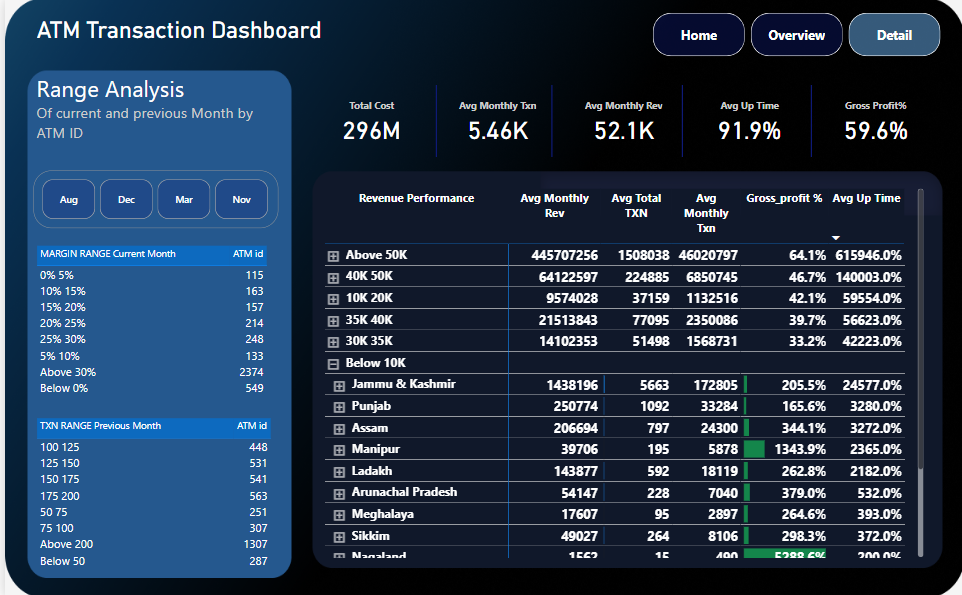

The page's visual inventory and layout, read from the dashboard file:
{"tool":"powerbi","page":{"name":"Detail","canvas":[1600,1000],"ordinal":2},"visuals":[{"type":"pageNavigator","box":[1080,24,480,72],"z":0},{"type":"textbox","box":[48,24,504,72],"z":1},{"type":"advancedSlicerVisual","fields":{"Values":["Dataset.Short_month"]},"box":[48,288,408,96],"z":2},{"type":"tableEx","fields":{"Values":["Dataset.MARGIN RANGE Current Month","Dataset.ATM id"]},"box":[48,408,408,264],"z":3},{"type":"tableEx","fields":{"Values":["Dataset.TXN RANGE Previous Month","Dataset.ATM id"]},"box":[48,696,408,264],"z":4},{"type":"textbox","box":[48,120,408,168],"z":5},{"type":"cardVisual","fields":{"Data":["Sum(Dataset. Total Cost  )","Avg(Dataset.Monthly Txn)","Avg(Dataset.Monthly Rev)","Avg(Dataset.Up Time)","Dataset.Gross_profit %"]},"box":[504,144,1056,120],"z":6},{"type":"shape","box":[696,144,48,120],"z":7},{"type":"shape","box":[888,144,48,120],"z":8},{"type":"shape","box":[1104,144,48,120],"z":9},{"type":"shape","box":[1320,144,48,120],"z":10},{"type":"pivotTable","fields":{"Rows":["Dataset.Revenue Performance","Dataset.STATE","Dataset.ATM id"],"Values":["Sum(Dataset.Monthly Rev)","Sum(Dataset.AVG Total TXN)","Sum(Dataset.Monthly Txn)","Dataset.Gross_profit %","Sum(Dataset.Up Time)"]},"box":[528,312,1008,624],"z":11}]}

Visuals, with their boxes in screenshot pixels (x1, y1, x2, y2), scaled from the page's 1600x1000 canvas onto the 962x595 screenshot:
pageNavigator: left=649, top=14, right=938, bottom=57
textbox: left=29, top=14, right=332, bottom=57
advancedSlicerVisual - Dataset.Short_month: left=29, top=171, right=274, bottom=228
tableEx - Dataset.MARGIN RANGE Current Month x Dataset.ATM id: left=29, top=243, right=274, bottom=400
tableEx - Dataset.TXN RANGE Previous Month x Dataset.ATM id: left=29, top=414, right=274, bottom=571
textbox: left=29, top=71, right=274, bottom=171
cardVisual - Sum(Dataset. Total Cost  ) x Avg(Dataset.Monthly Txn): left=303, top=86, right=938, bottom=157
shape: left=418, top=86, right=447, bottom=157
shape: left=534, top=86, right=563, bottom=157
shape: left=664, top=86, right=693, bottom=157
shape: left=794, top=86, right=823, bottom=157
pivotTable - Dataset.Revenue Performance x Dataset.STATE: left=317, top=186, right=924, bottom=557
